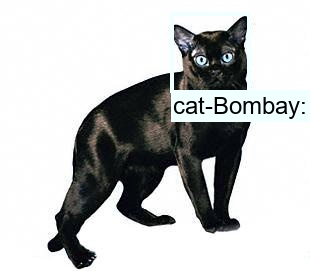cat-Bombay: (170, 16, 248, 87)
